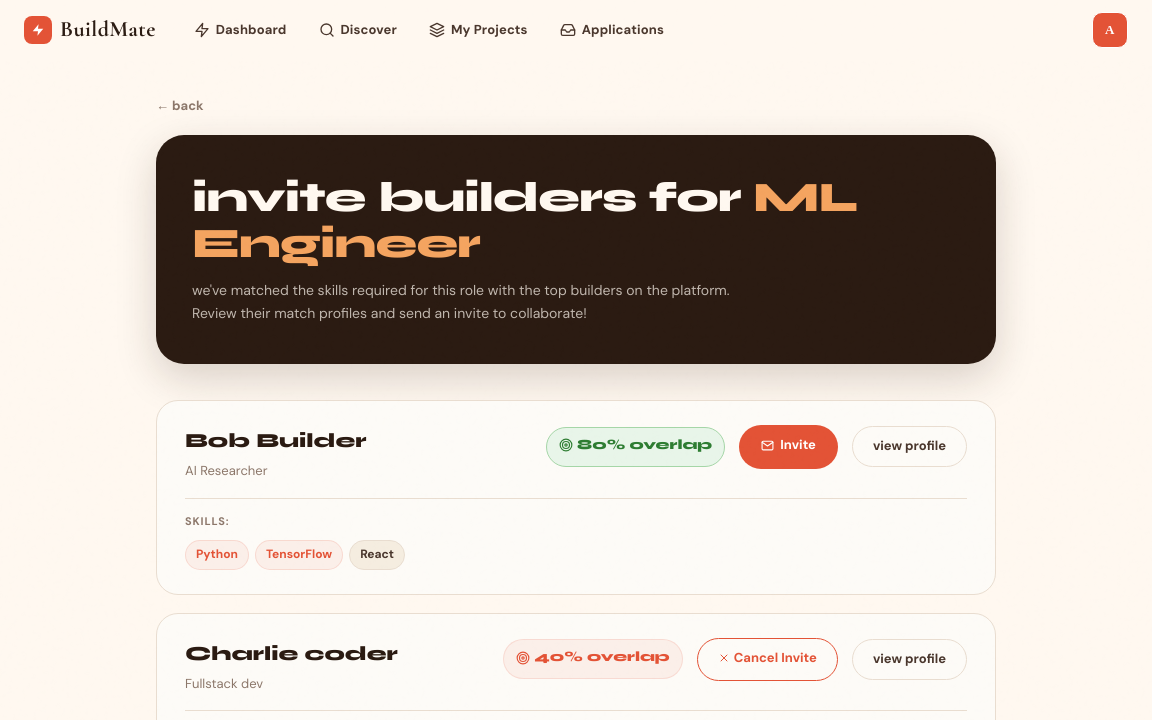
Test case: InviteBuilders › handles sending an invitation
Click the button "Invite": (789, 447) x1=739 y1=425 x2=838 y2=469
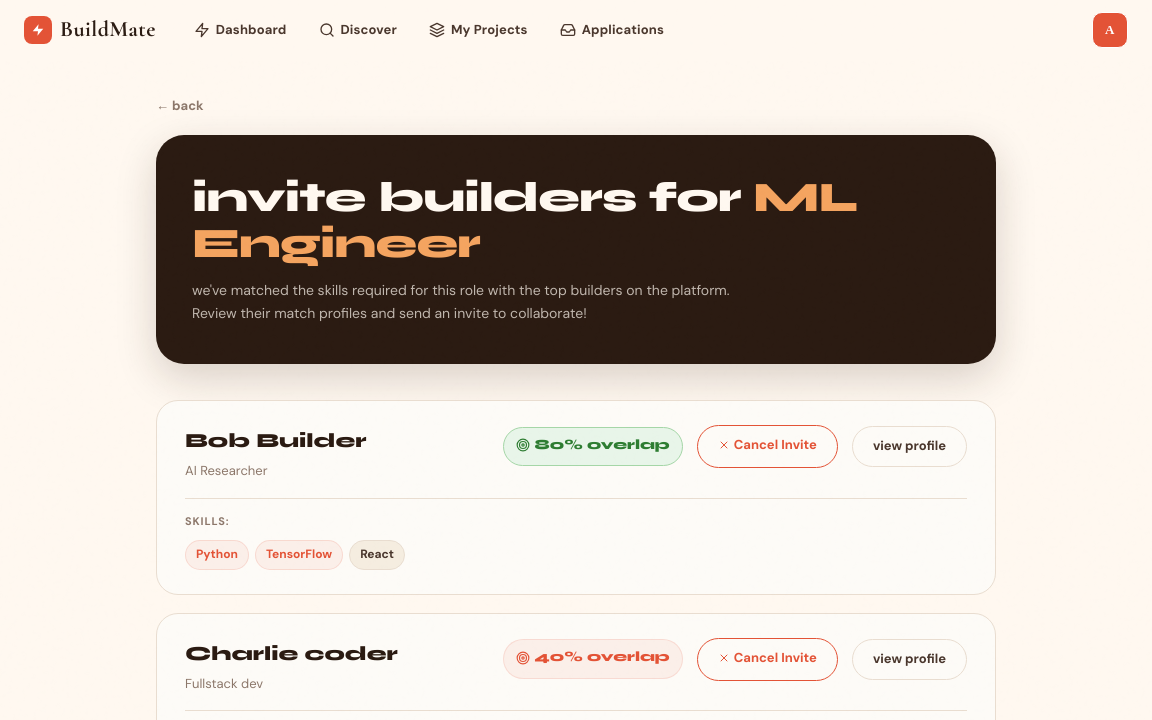
Now the number of buttons "Cancel Invite" is 2, box x1=697 y1=425 x2=838 y2=468; x1=697 y1=638 x2=838 y2=681
